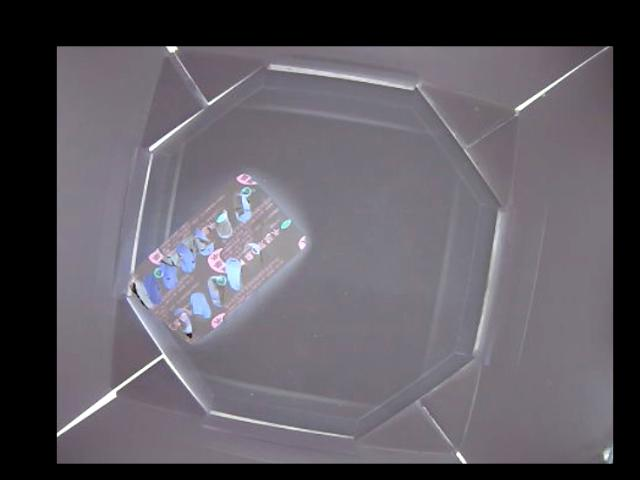Medicine: (125, 170, 308, 340)
